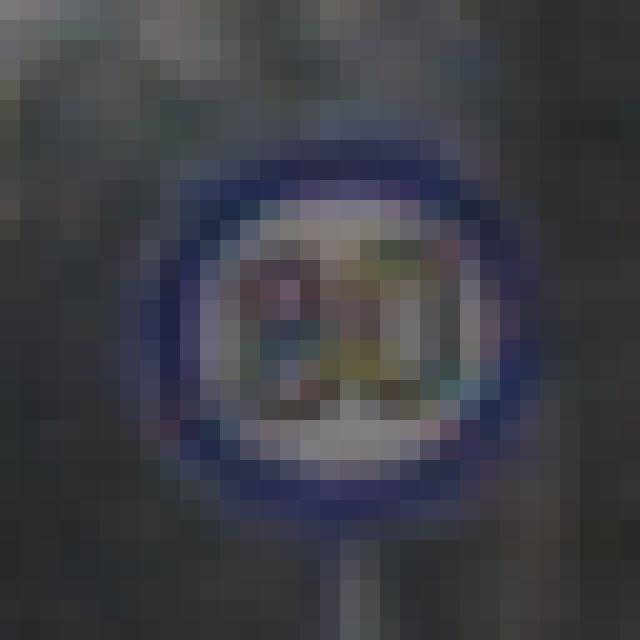SPEED-LIMIT-80: (128, 143, 542, 532)
